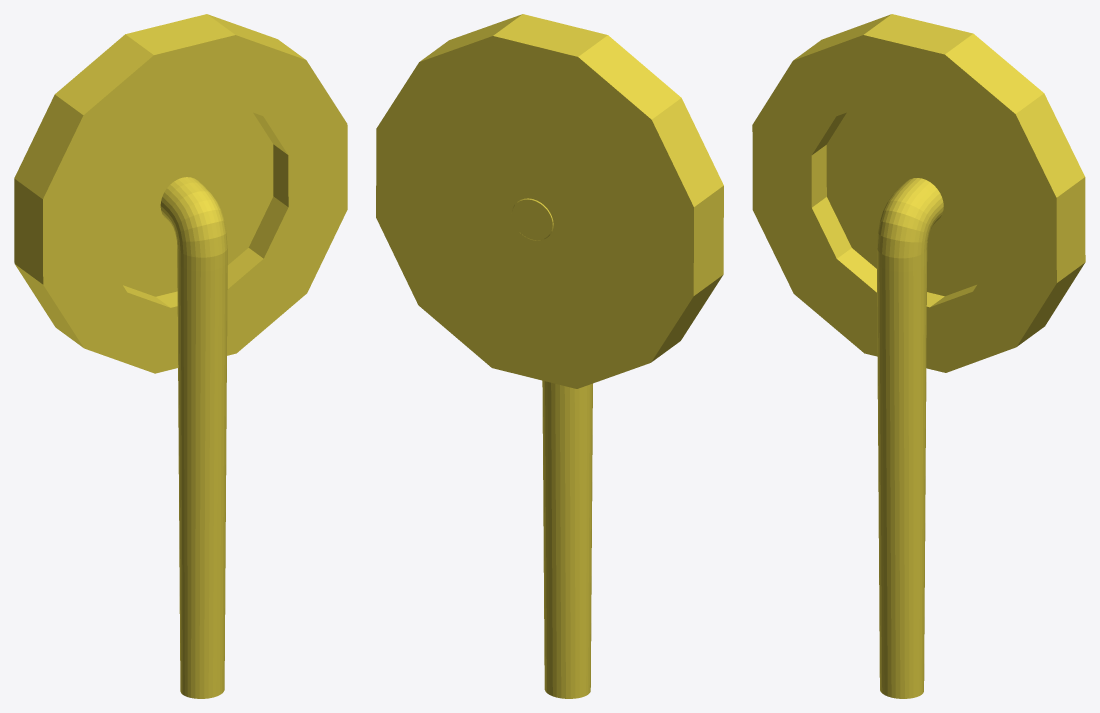
The model's file is CirclePipe.fbx.
3 renders of one model, left to right at view 1: azimuth 30°, elevation 25°; view 2: azimuth 150°, elevation 25°; view 3: azimuth 330°, elevation 25°, orthographic. The views are drawn at different scales.
Visible parts, largest first — view 1: BOX.019; view 2: BOX.019; view 3: BOX.019.
Part boxes in pixels (bbox=[...]): BOX.019: bbox=[14, 14, 347, 698]; BOX.019: bbox=[376, 14, 723, 698]; BOX.019: bbox=[752, 14, 1085, 698].
Size of the model in its own units: 79.28 by 160 by 21.02.
